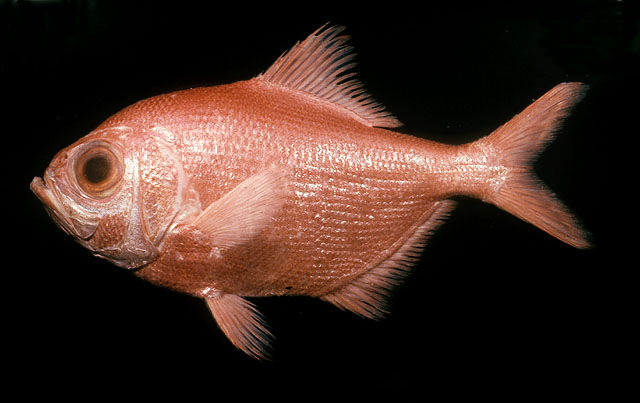fish: (29, 22, 589, 362)
